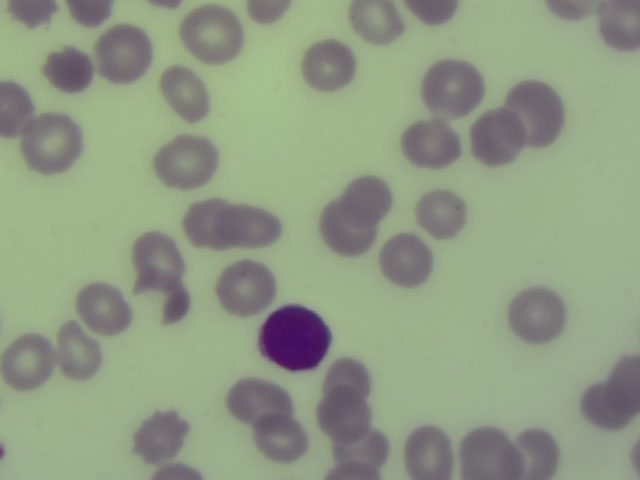RBC: (402, 422, 458, 480), (461, 422, 517, 480), (378, 233, 434, 290), (511, 288, 567, 345), (251, 410, 307, 467), (132, 409, 188, 466), (470, 106, 526, 163), (509, 83, 565, 140), (405, 114, 461, 171), (50, 325, 106, 382), (218, 261, 274, 318), (76, 280, 132, 337), (133, 271, 189, 328), (180, 192, 236, 249), (426, 60, 482, 117), (300, 38, 356, 95), (158, 135, 214, 192), (159, 64, 215, 121), (182, 7, 238, 64), (25, 114, 81, 171), (39, 41, 95, 98), (95, 25, 151, 82), (413, 182, 469, 239), (317, 385, 373, 442), (217, 202, 285, 248), (1, 334, 55, 391), (226, 377, 297, 420), (507, 429, 562, 480), (130, 227, 183, 279), (339, 172, 392, 223), (318, 205, 372, 255), (579, 378, 628, 432), (324, 354, 373, 404), (349, 1, 404, 45), (331, 427, 390, 468), (1, 78, 38, 143), (608, 346, 640, 419), (596, 1, 640, 53), (406, 1, 460, 29), (4, 1, 56, 27), (65, 1, 111, 29)
WBC: (259, 306, 334, 371)
